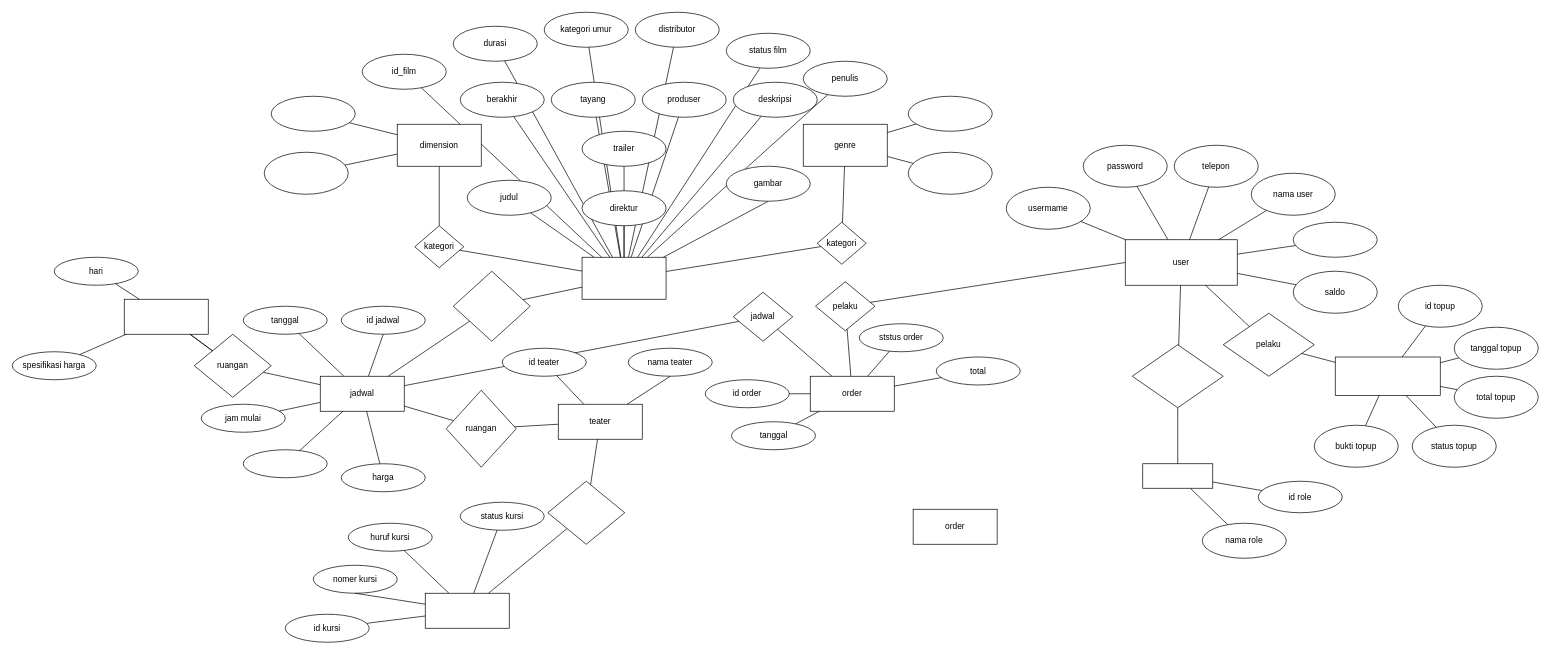
The diagram is 1551 pixels wide and 655 high, and some of its shapes have lost their labels. Here are the shapes that lost their labels. From the top down, the box of each, then its label:
(271, 96, 355, 131): id dimension
(908, 96, 992, 131): id genre
(264, 152, 348, 194): nama dimension
(908, 152, 992, 194): nama genre
(1293, 222, 1377, 257): id user
(581, 257, 666, 299): Film
(124, 299, 208, 334): tabel harga
(453, 271, 530, 341): waktu
(1132, 344, 1223, 408): akses
(1335, 356, 1440, 396): Topup
(243, 449, 327, 478): jam selesai
(1142, 463, 1213, 488): role
(547, 481, 625, 544): duduk
(425, 593, 509, 628): kursi
